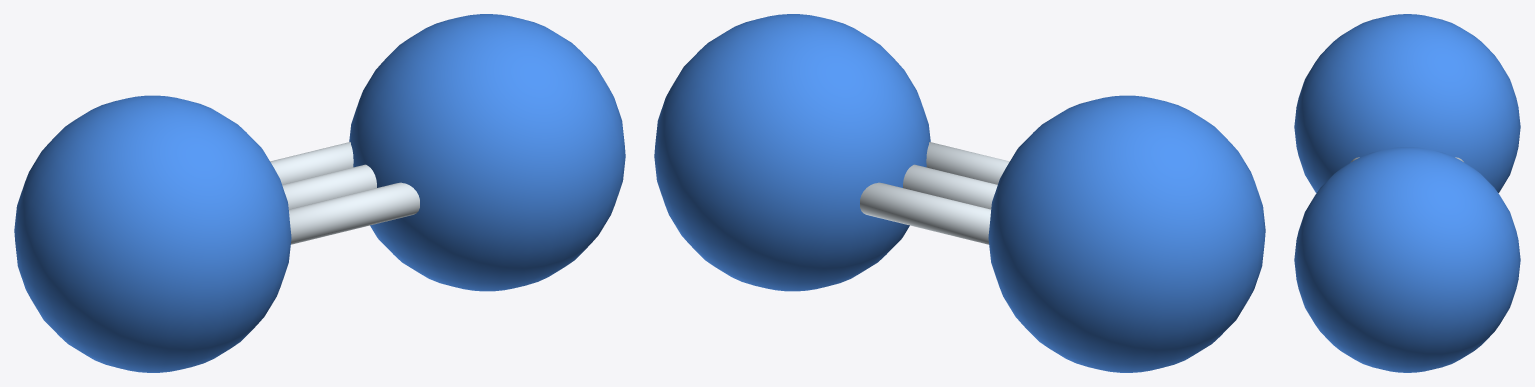
The model's file is nitrogen-molecule-quality.glb.
3 renders of one model, left to right at view 1: azimuth 30°, elevation 25°; view 2: azimuth 150°, elevation 25°; view 3: azimuth 270°, elevation 25°, orthographic. The views are drawn at different scales.
Parts seen in each view (by area): view 1: Atom; view 2: Atom; view 3: Atom.
Boxes of the visible parts, box(x1,y1,x2,y2) form: Atom: box(14, 14, 625, 372); Atom: box(654, 14, 1265, 372); Atom: box(1294, 14, 1520, 372).
Size of the model in its own units: 1.72 by 0.72 by 0.72.
